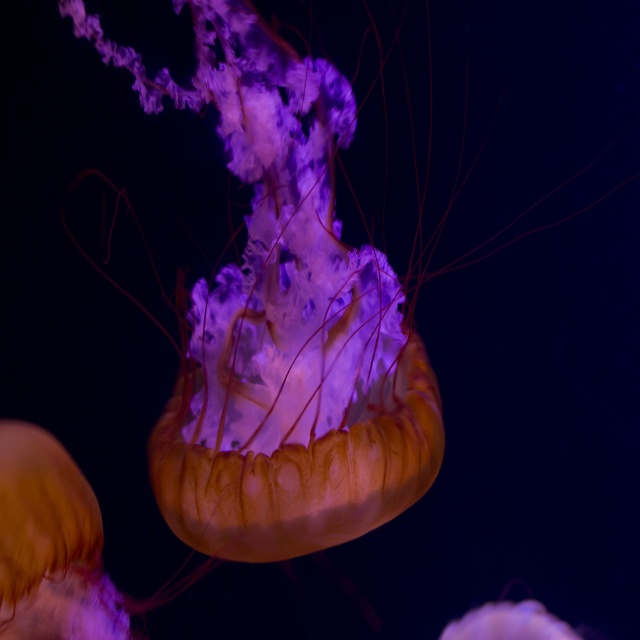Jellyfish: (124, 33, 480, 572), (0, 421, 156, 639), (440, 602, 574, 639)
